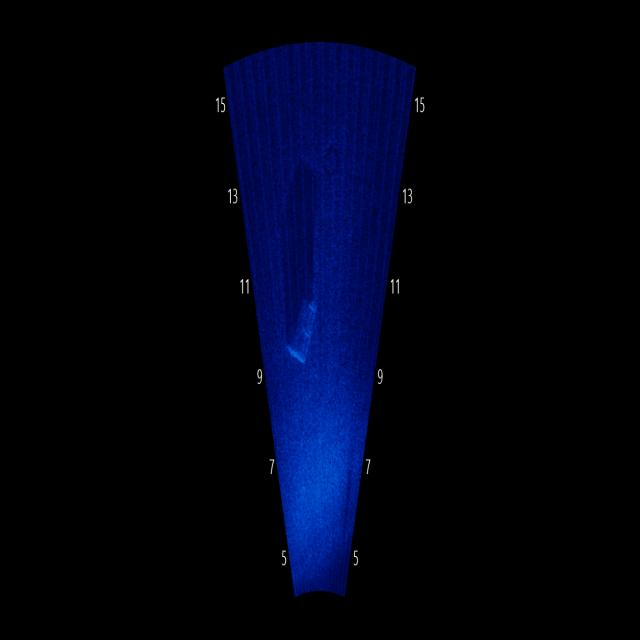square: (281, 273, 330, 374)
